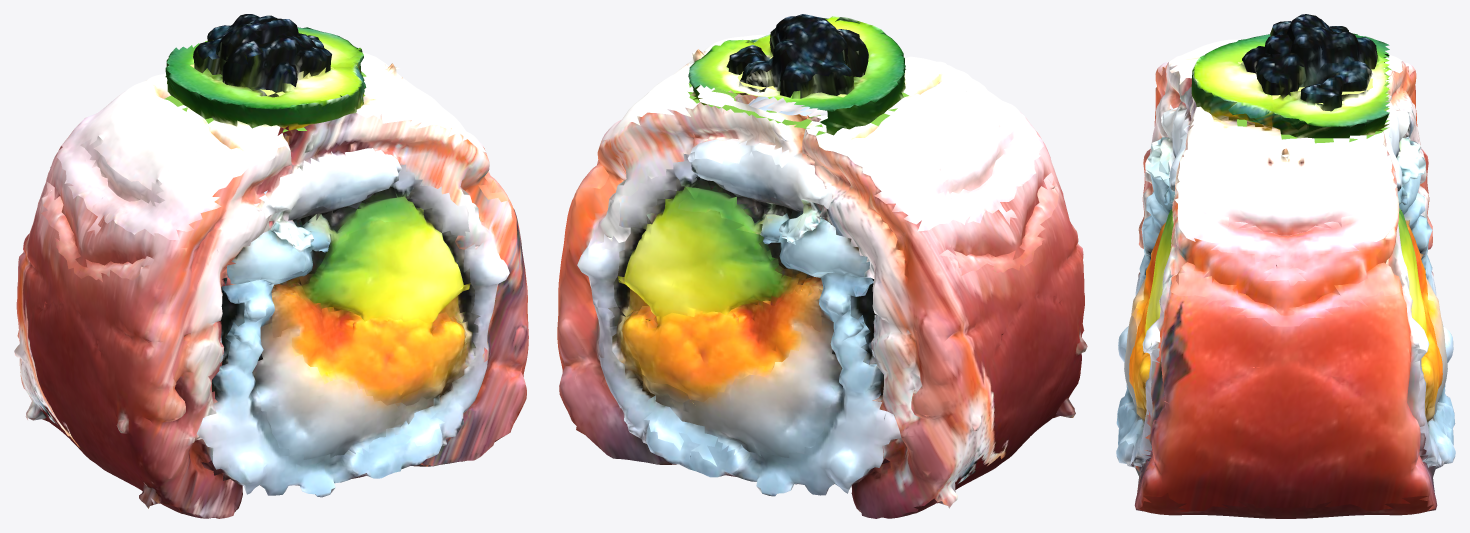
File: jalapeno_roll_lite.glb
3 views of the same model, side by side, from view 1: azimuth 30°, elevation 25°; view 2: azimuth 150°, elevation 25°; view 3: azimuth 270°, elevation 25° (orthographic). The views are drawn at different scales.
Parts seen in each view (by area): view 1: ing_salmon, ing_rice, ing_avocado, ing_tobiko, ing_crab, ing_jalapeno, ing_blackTobiko, ing_nori, ing_crunch; view 2: ing_salmon, ing_rice, ing_avocado, ing_tobiko, ing_crab, ing_jalapeno, ing_blackTobiko, ing_nori, ing_crunch; view 3: ing_salmon, ing_rice, ing_jalapeno, ing_blackTobiko, ing_tobiko, ing_avocado, ing_crab, ing_crunch.
Part boxes in pixels (x1,y1,x2,y2): ing_salmon: (14,52,528,518); ing_rice: (196,148,509,497); ing_avocado: (302,196,470,322); ing_tobiko: (272,292,466,405); ing_crab: (252,323,433,459); ing_jalapeno: (164,27,369,132); ing_blackTobiko: (193,14,331,97); ing_nori: (219,186,480,365); ing_crunch: (271,284,475,407); ing_salmon: (557,34,1087,518); ing_rice: (577,96,901,496); ing_avocado: (617,186,791,316); ing_tobiko: (621,284,821,402); ing_crab: (652,317,841,457); ing_jalapeno: (688,16,908,135); ing_blackTobiko: (726,14,868,98); ing_nori: (608,177,876,364); ing_crunch: (612,277,823,403); ing_salmon: (1134,39,1443,518); ing_rice: (1116,107,1455,469); ing_jalapeno: (1191,33,1391,143); ing_blackTobiko: (1242,14,1377,111); ing_tobiko: (1129,220,1442,409); ing_avocado: (1145,208,1426,334); ing_crab: (1124,229,1447,423); ing_crunch: (1136,221,1434,421).
Bounding box in the file's own units: 0.0496 × 0.0472 × 0.034.
Materials: 1 (1 with a texture image).
